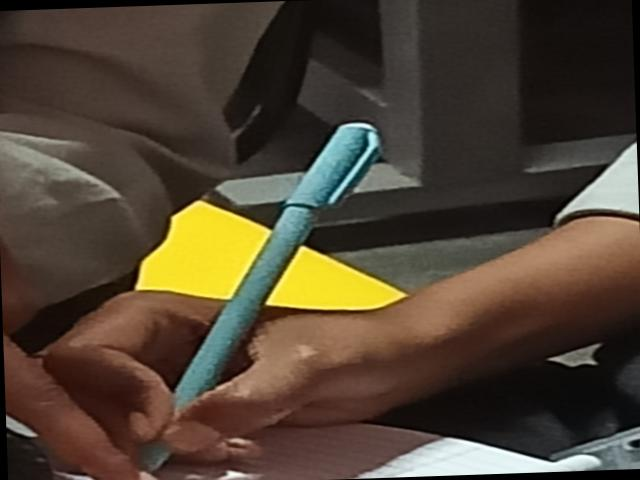PEN: (107, 96, 398, 480)
